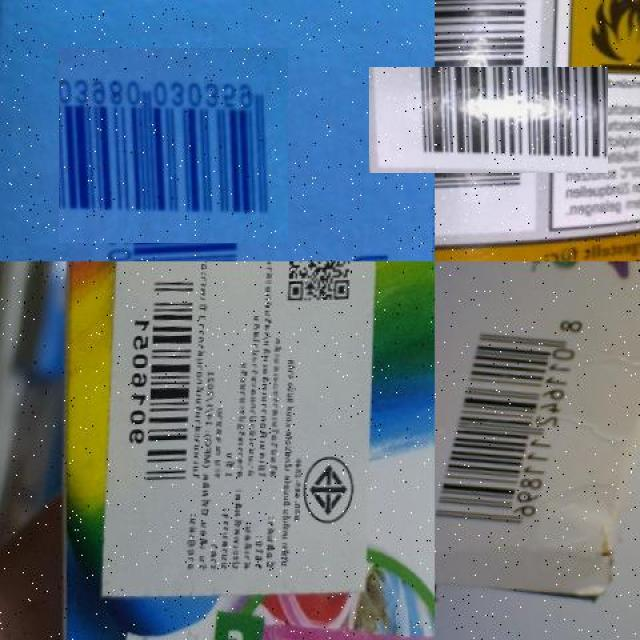Barcode: (67, 40, 280, 252), (434, 294, 598, 550), (401, 34, 575, 206), (128, 273, 199, 496)
